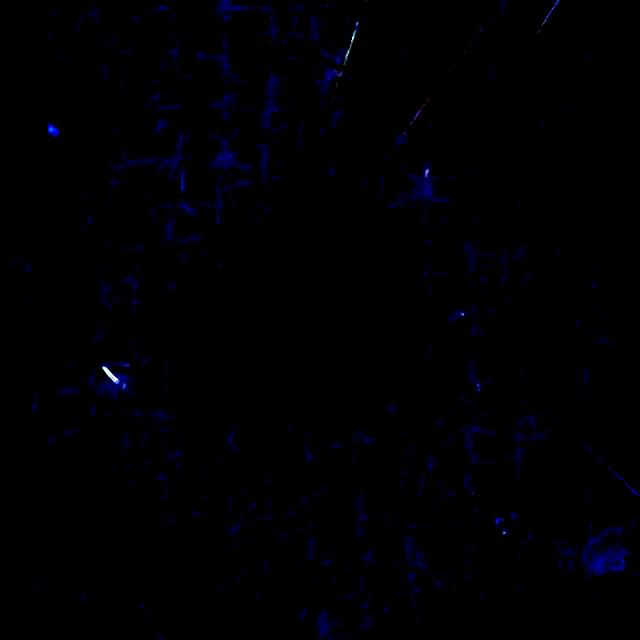NV: (195, 220, 398, 393)
